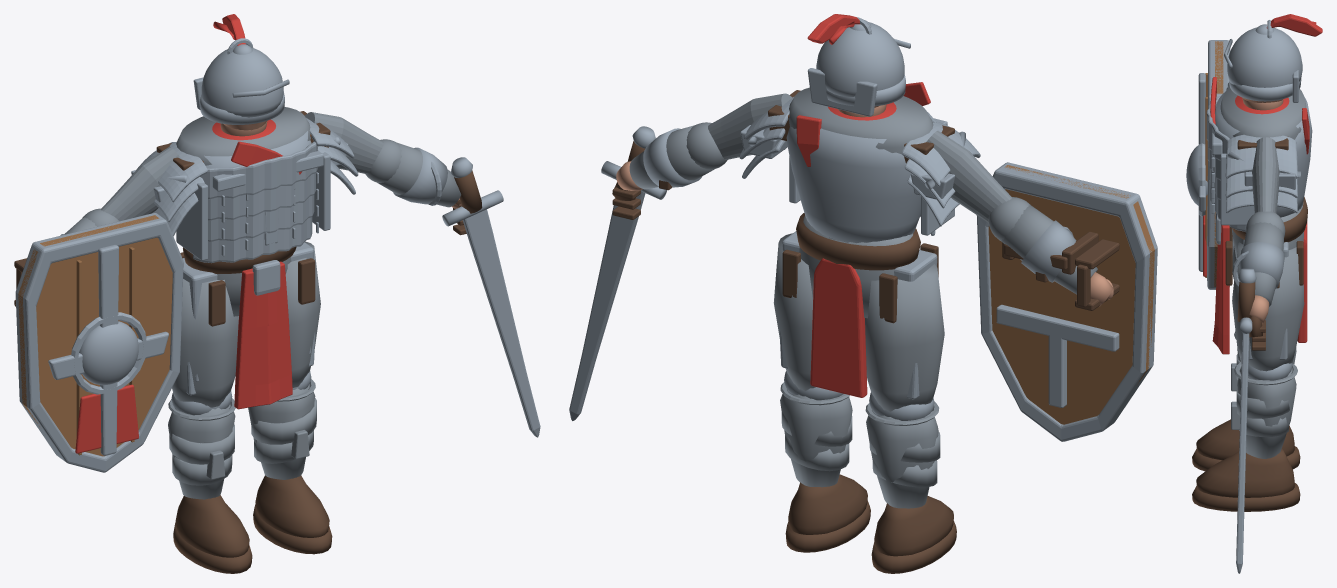
The model's file is SK_Infantry_A_v004_P035R3_Apose_Review.fbx.
3 renders of one model, left to right at view 1: azimuth 30°, elevation 25°; view 2: azimuth 150°, elevation 25°; view 3: azimuth 270°, elevation 25°, orthographic. The views are drawn at different scales.
Parts seen in each view (by area): view 1: Shield, Shield_Rim, GEO_Infantry_WaistCloth_Front_P03R1, Thigh_L, Sword, Helmet, Boot_R, Boot_L, Body_Base, Shield_Boss, ChestArmor_Lamellar_4, Thigh_R (+35 smaller); view 2: Shield, Shield_Rim, ChestArmor, Thigh_L, WaistCloth_Rear_P02R1, Helmet, Sword, Calf_L, Body_Base, Calf_R, Thigh_R, Boot_R (+28 smaller); view 3: Thigh_R, Helmet, Boot_R, Body_Base, Calf_R, UpperArm_R, Sword, ShoulderArmor_R_1, Shield_Rim, GEO_Infantry_WaistCloth_Front_P03R1, BootSole_R, ChestArmor (+46 smaller).
Part boxes in pixels (box(x1,y1,x2,y2)): Shield: box(18, 215, 172, 456); Shield_Rim: box(15, 213, 183, 472); GEO_Infantry_WaistCloth_Front_P03R1: box(234, 261, 292, 409); Thigh_L: box(172, 279, 238, 407); Sword: box(463, 209, 540, 437); Helmet: box(201, 48, 283, 117); Boot_R: box(255, 475, 329, 537); Boot_L: box(175, 495, 249, 557); Body_Base: box(176, 107, 310, 165); Shield_Boss: box(79, 321, 138, 385); ChestArmor_Lamellar_4: box(200, 141, 318, 199); Thigh_R: box(285, 241, 320, 387); Shield: box(988, 165, 1154, 424); Shield_Rim: box(976, 162, 1157, 441); ChestArmor: box(786, 116, 929, 243); Thigh_L: box(865, 264, 944, 411); WaistCloth_Rear_P02R1: box(810, 258, 867, 397); Helmet: box(816, 22, 904, 96); Sword: box(569, 191, 645, 421); Calf_L: box(866, 410, 938, 508); Body_Base: box(789, 87, 933, 242); Calf_R: box(780, 389, 852, 487); Thigh_R: box(773, 233, 815, 390); Boot_R: box(788, 474, 867, 534); Thigh_R: box(1232, 242, 1304, 371); Helmet: box(1227, 27, 1302, 87); Boot_R: box(1196, 449, 1294, 497); Body_Base: box(1220, 86, 1306, 139); Calf_R: box(1237, 367, 1296, 458); UpperArm_R: box(1252, 137, 1279, 213); Sword: box(1236, 333, 1249, 573); ShoulderArmor_R_1: box(1225, 134, 1297, 178); Shield_Rim: box(1207, 40, 1230, 289); GEO_Infantry_WaistCloth_Front_P03R1: box(1212, 225, 1229, 354); BootSole_R: box(1192, 483, 1300, 511); ChestArmor: box(1215, 92, 1312, 217).
Bounding box in the file's own units: 2.01 × 1.82 × 0.4799.
